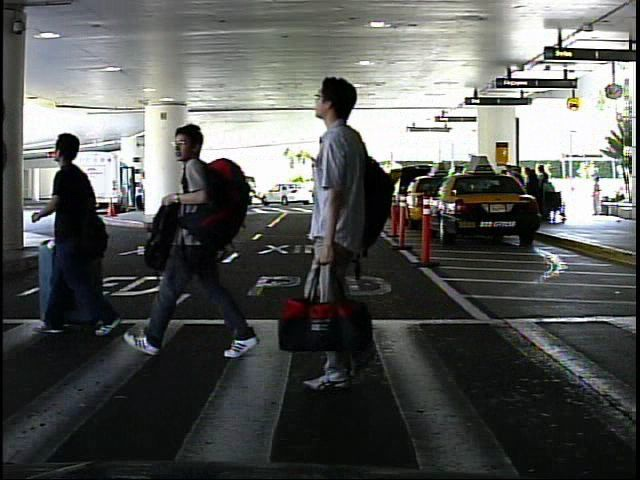person: (276, 65, 401, 396), (129, 106, 243, 366), (29, 114, 119, 354), (588, 174, 607, 219)
